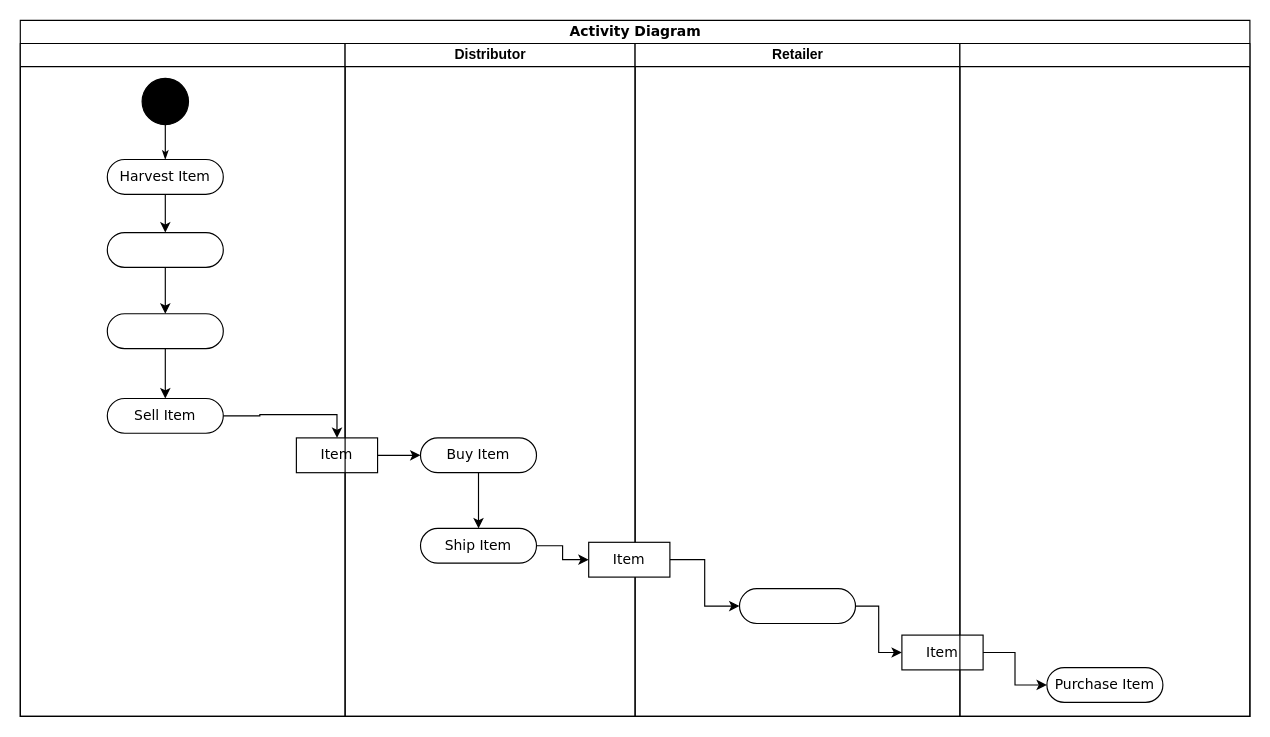
Image size: 1270x737. Some labels were removed from this diagram. The box of each missing label's shape, as (x1, y1, x2, y2) in pixels:
Consumer: (959, 42, 1250, 716)
Farmer: (19, 42, 345, 716)
Pack Item: (106, 313, 223, 349)
Process Item: (106, 231, 223, 267)
Receive Item: (738, 588, 855, 624)
